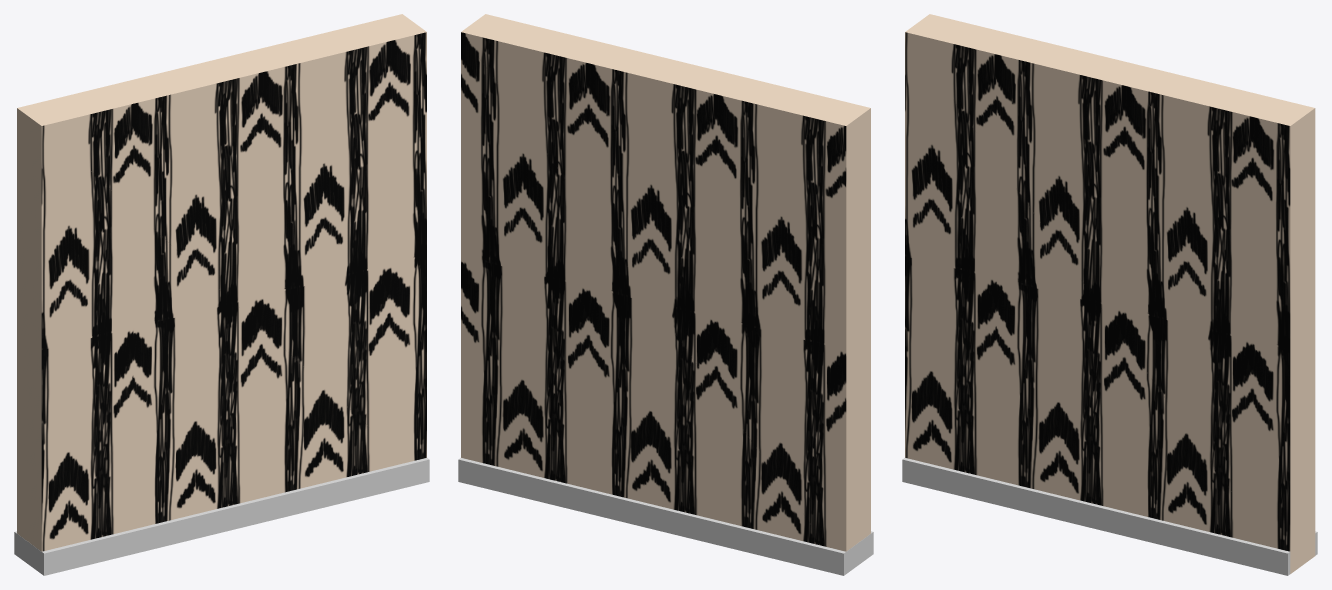
File: paredarregladanormal 1.fbx
3 renders of one model, left to right at view 1: azimuth 30°, elevation 25°; view 2: azimuth 150°, elevation 25°; view 3: azimuth 330°, elevation 25°, orthographic.
Visible parts, largest first — view 1: paredx.014, paredx.015; view 2: paredx.014, paredx.015; view 3: paredx.014, paredx.015.
Part boxes in pixels (x1,y1,x2,y2): paredx.014: [17, 14, 426, 551]; paredx.015: [14, 458, 429, 575]; paredx.014: [461, 14, 870, 551]; paredx.015: [458, 458, 873, 575]; paredx.014: [905, 14, 1315, 573]; paredx.015: [902, 458, 1317, 575].
Bounding box in the file's own units: 270 × 300 × 36.05.
